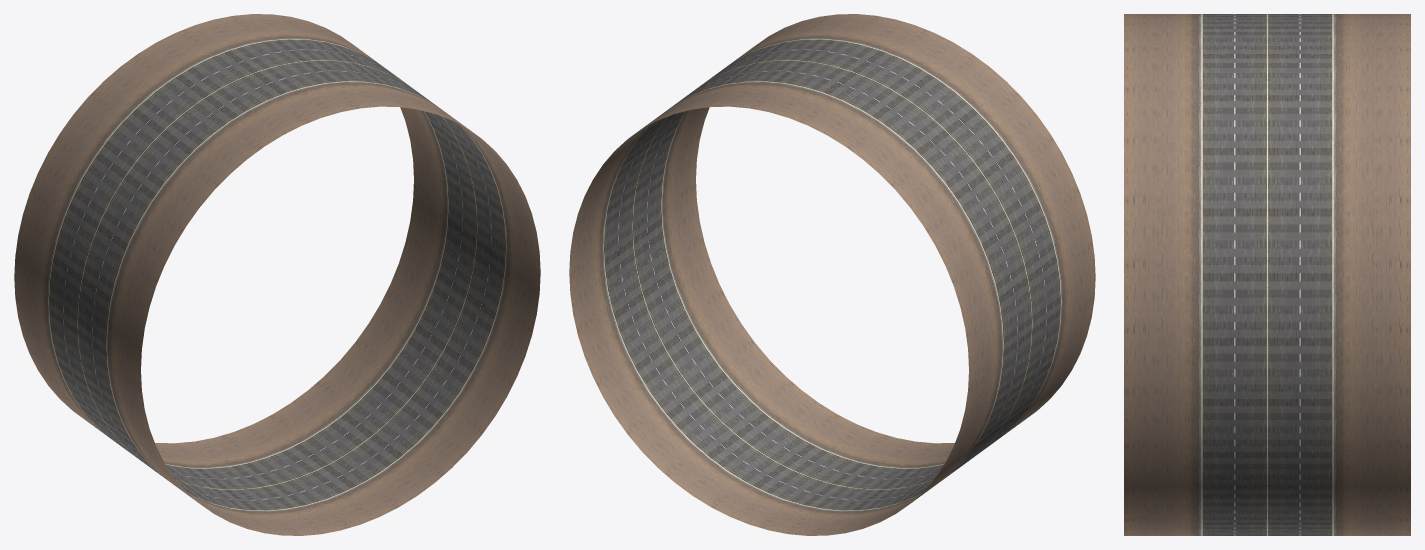
File: World_Cylinder_Desert.fbx
The picture shows the model from 3 angles, left to right: view 1: azimuth 30°, elevation 25°; view 2: azimuth 150°, elevation 25°; view 3: azimuth 270°, elevation 25°; orthographic projection. The views are drawn at different scales.
Visible parts, largest first — view 1: World_Cylinder_Desert; view 2: World_Cylinder_Desert; view 3: World_Cylinder_Desert.
Part boxes in pixels (x1,y1,x2,y2): World_Cylinder_Desert: (14,14,540,535); World_Cylinder_Desert: (569,14,1095,535); World_Cylinder_Desert: (1124,14,1410,535).
Bounding box in the file's own units: 20000 × 20000 × 10977.
